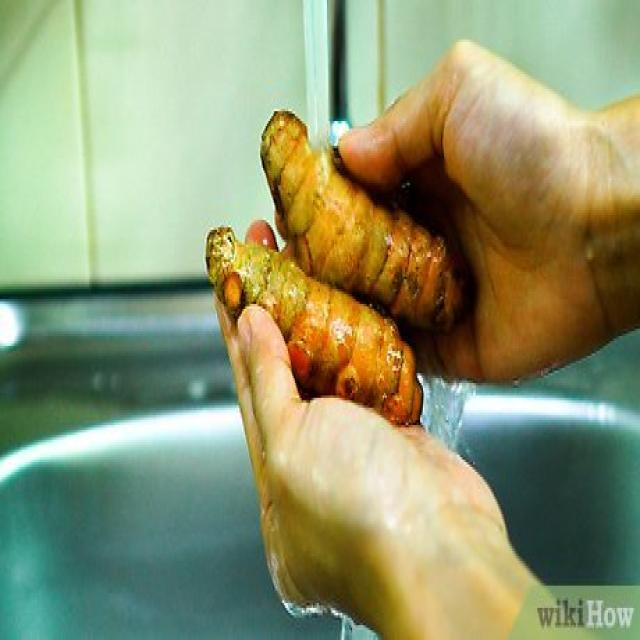turmeric: (200, 227, 431, 426), (260, 91, 476, 301)
